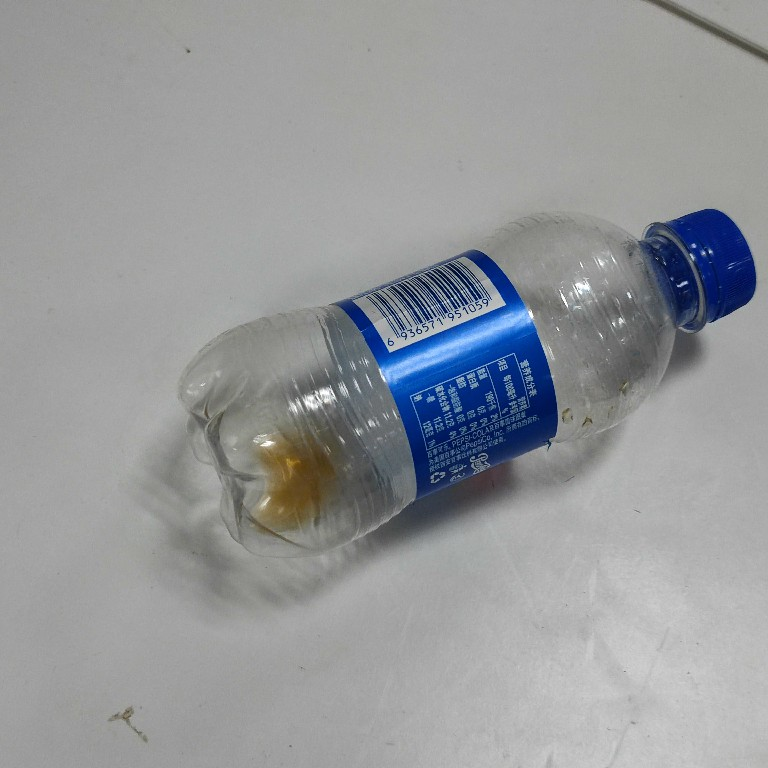bottle: (176, 177, 764, 574)
